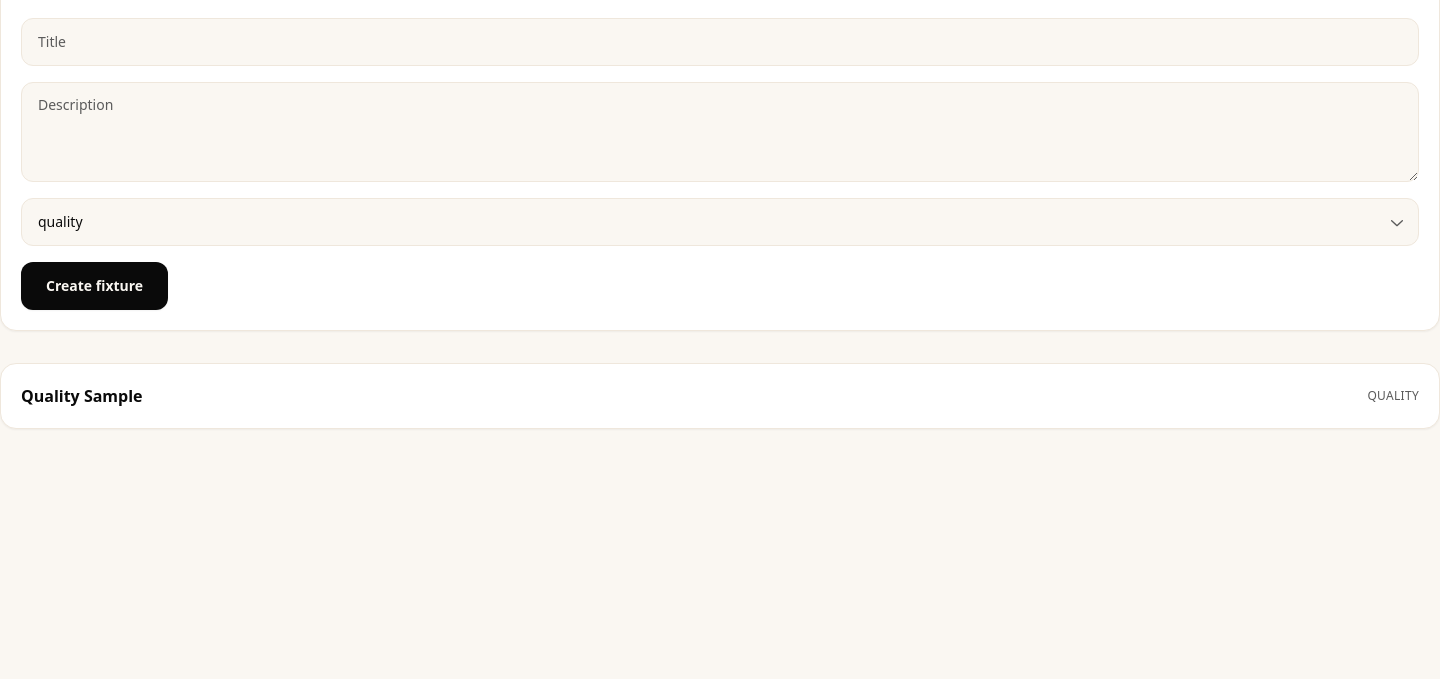
Test: AdminCalibrationFixturesPanel › answer-key rows › shows a failed save on its own row
Expected: the text "Quality Sample" is shown, x1=21 y1=384 x2=142 y2=408
Click the button "Quality Sample quality".
click(82, 396)  # box x1=21 y1=384 x2=1419 y2=408
(page scrolled)
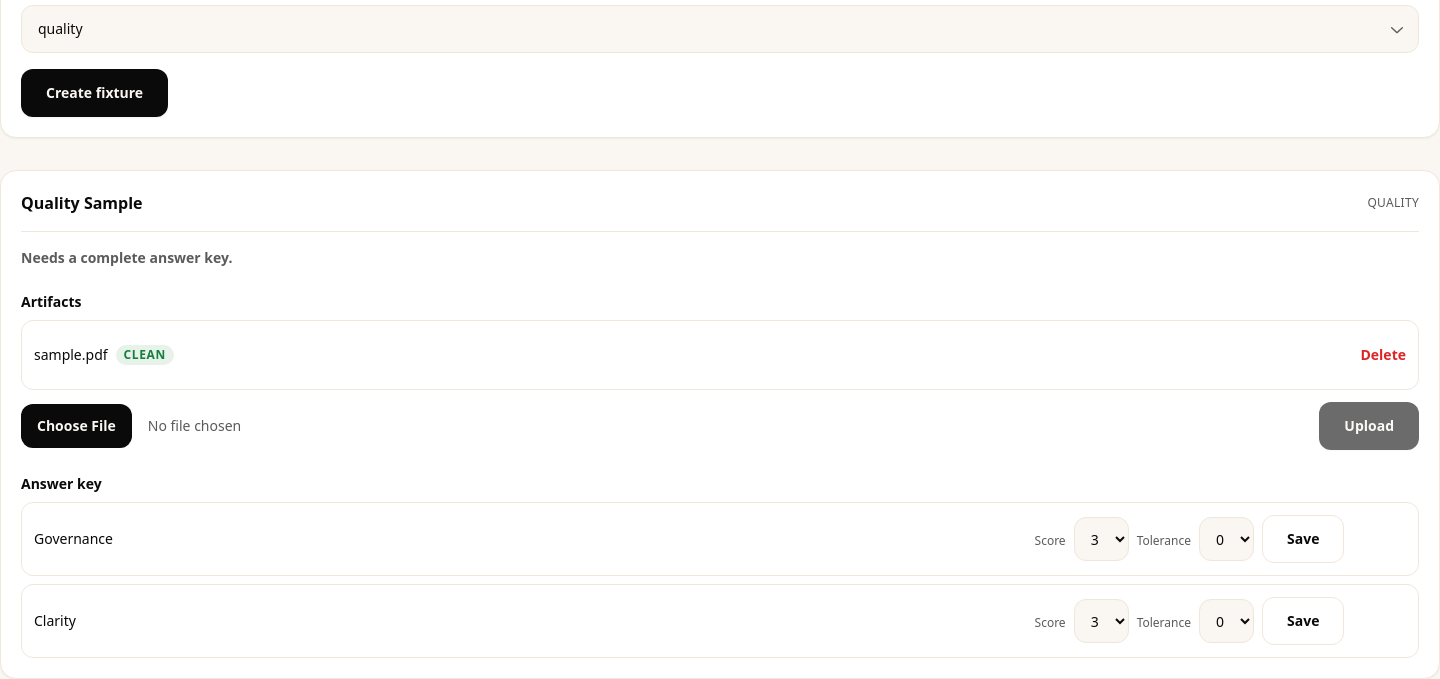
Expected: the text "Clarity" is shown, x1=34 y1=611 x2=76 y2=630
Click the button "Save" in the row of "Governance".
click(1303, 539)  # box x1=1262 y1=515 x2=1344 y2=563
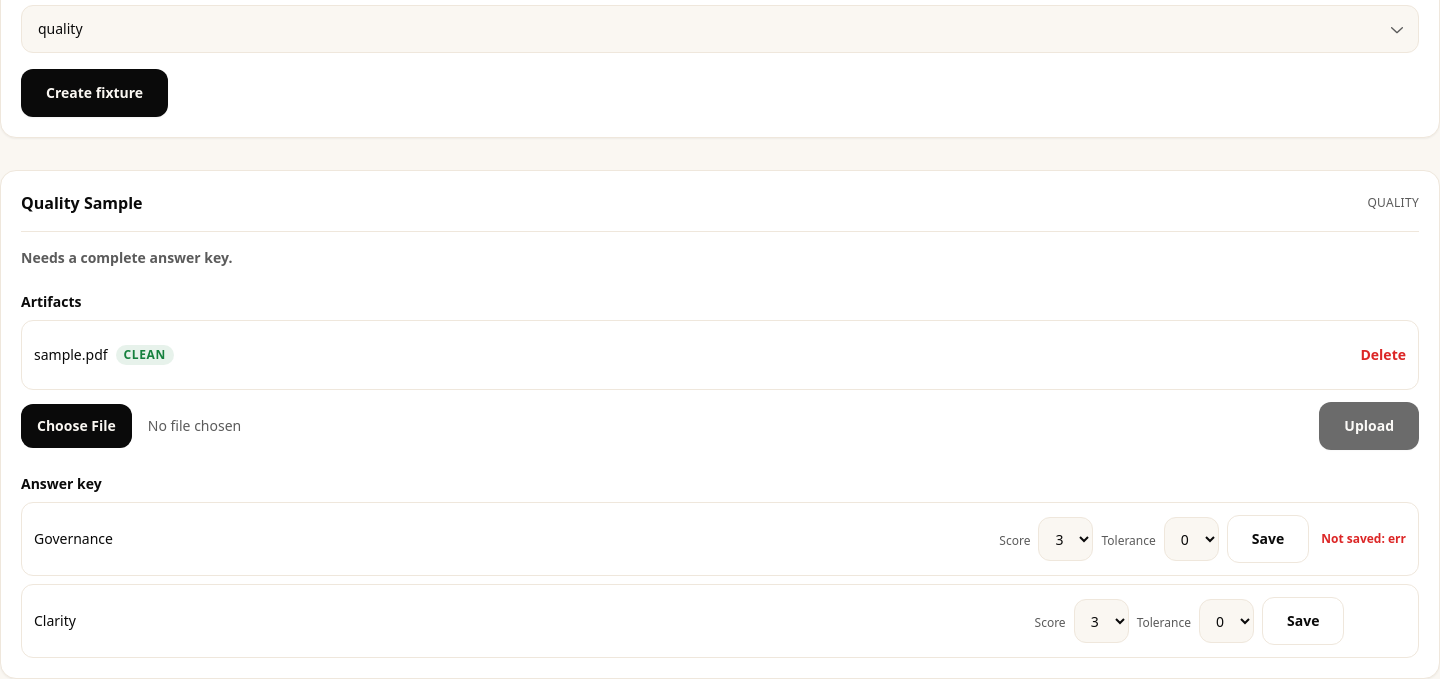
Expected: the button "Save" next to "Not saved: err" is enabled, x1=1227 y1=515 x2=1309 y2=563
Expected: the button "Save" in the row of "Clarity" is enabled, x1=1262 y1=597 x2=1344 y2=645
Expected: the text "Not saved: err" is shown, x1=1321 y1=531 x2=1406 y2=547
